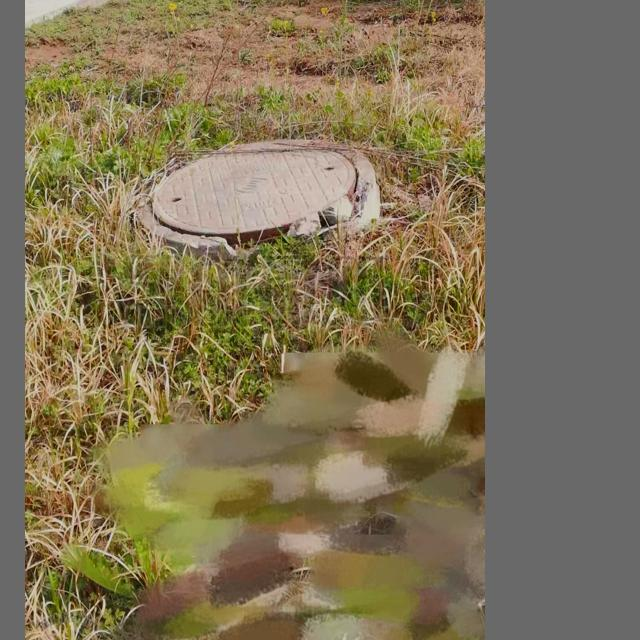circle: (120, 131, 378, 261)
